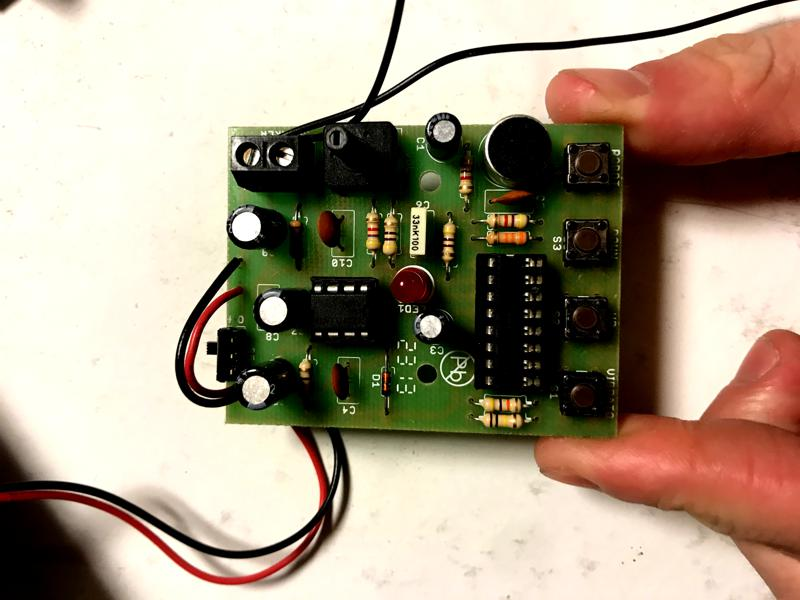Capacitor: (234, 355, 298, 413), (225, 204, 286, 253), (252, 284, 305, 334), (421, 109, 464, 162), (411, 306, 459, 347)
Diode: (377, 367, 396, 398)
LED: (389, 267, 434, 303)
Resistor: (483, 228, 537, 249), (480, 209, 534, 229), (477, 413, 527, 434), (380, 214, 402, 261), (439, 219, 460, 266), (286, 216, 307, 261), (296, 356, 316, 401), (478, 396, 528, 414), (364, 205, 380, 261), (456, 154, 475, 201)
